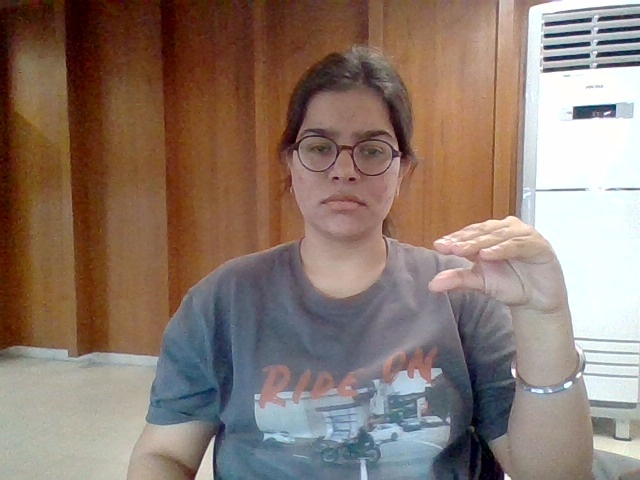NO: (425, 213, 574, 316)
